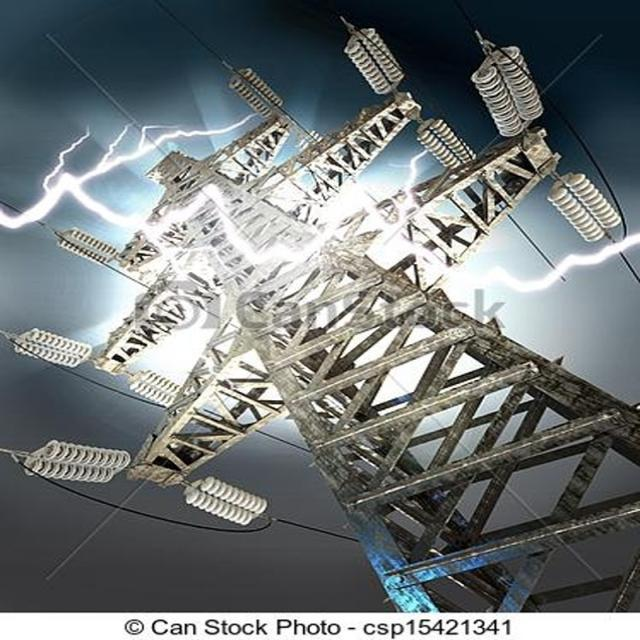non-critical vegetation: (20, 32, 623, 606)
